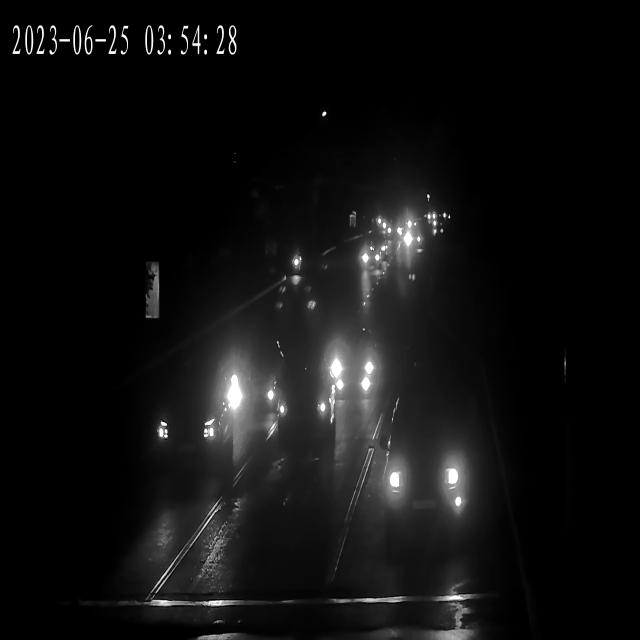Car: (376, 416, 476, 530), (148, 385, 228, 467), (214, 345, 286, 416), (315, 329, 380, 401), (354, 240, 388, 270), (356, 244, 387, 274), (359, 239, 390, 265), (402, 228, 427, 249), (401, 232, 425, 251), (381, 221, 404, 238), (381, 224, 404, 241), (398, 216, 419, 230), (427, 218, 444, 232), (372, 215, 388, 228), (424, 215, 442, 226), (423, 214, 439, 225)
